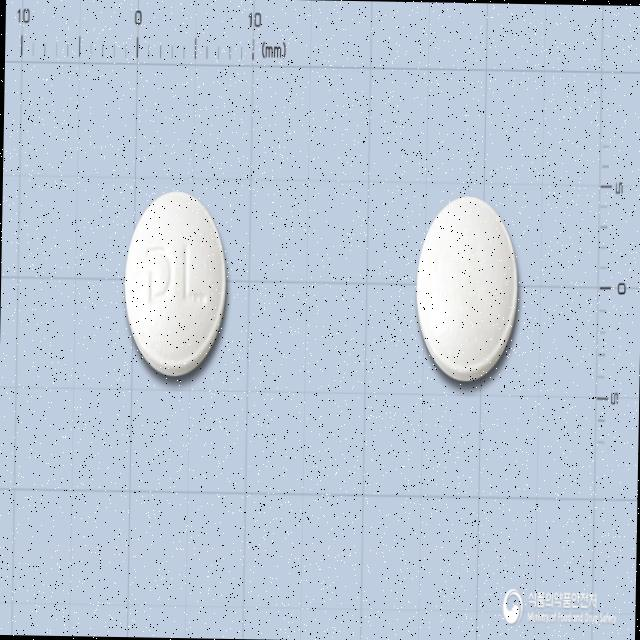Levicin: (123, 188, 229, 380), (415, 194, 521, 384)
